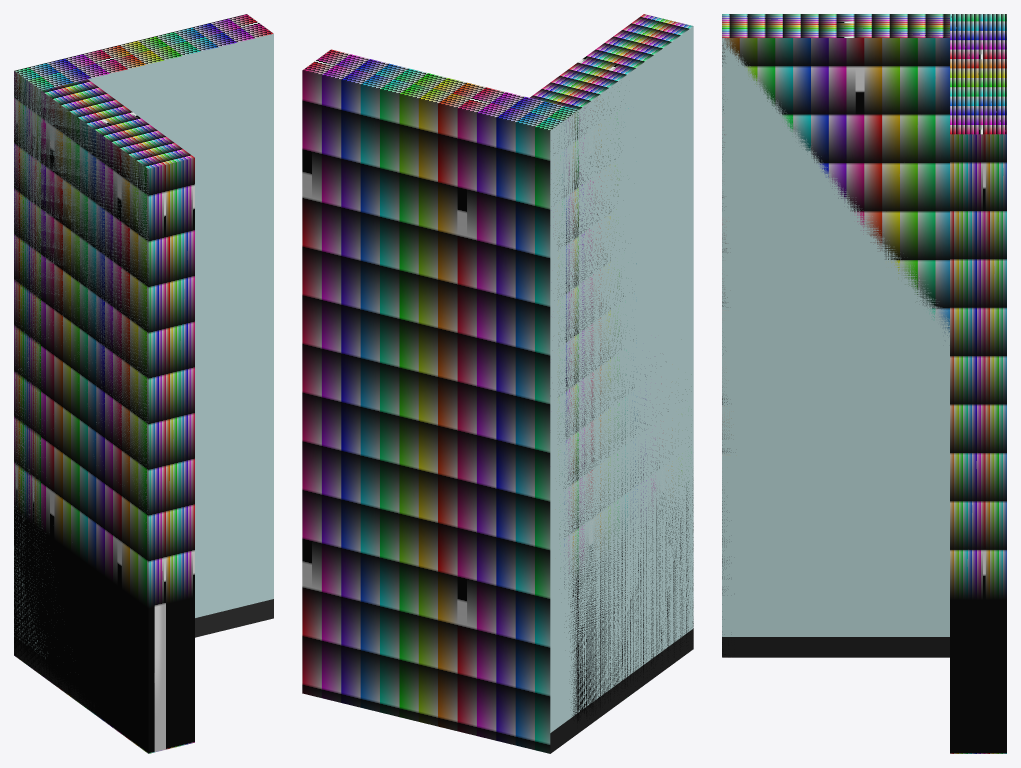
The model's file is interiorWall_corner_1x1.fbx.
3 renders of one model, left to right at view 1: azimuth 30°, elevation 25°; view 2: azimuth 150°, elevation 25°; view 3: azimuth 270°, elevation 25°, orthographic. The views are drawn at different scales.
Parts seen in each view (by area): view 1: trigger_1, interiorWall_corner_1x1, trigger_2; view 2: trigger_2, interiorWall_corner_1x1, trigger_1; view 3: interiorWall_corner_1x1, trigger_2, trigger_1.
Part boxes in pixels (x1,y1,x2,y2): trigger_1: (41, 79, 194, 753); interiorWall_corner_1x1: (14, 33, 273, 724); trigger_2: (14, 14, 273, 674); trigger_2: (302, 49, 578, 753); interiorWall_corner_1x1: (550, 26, 693, 753); trigger_1: (530, 14, 693, 721); interiorWall_corner_1x1: (722, 38, 949, 657); trigger_2: (950, 14, 1006, 753); trigger_1: (722, 14, 949, 657).
Size of what is drawn, in the model's own units: 125 by 300 by 125.
